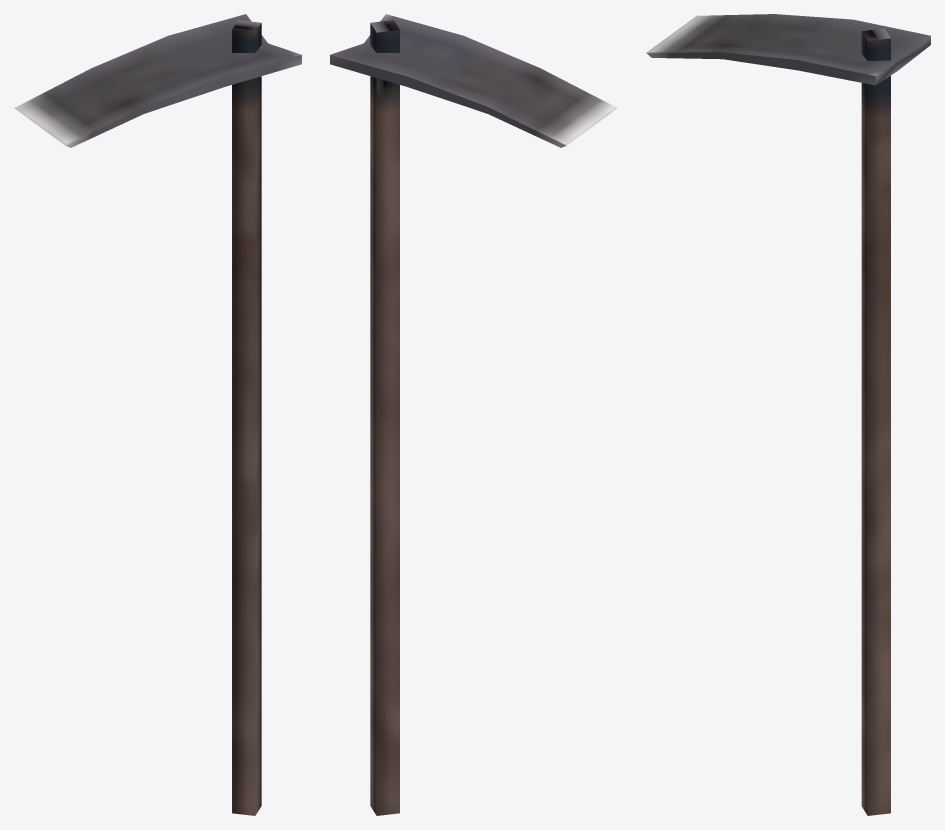
File: objects_un_t03farmtools01.gltf
3 views of the same model, side by side, from view 1: azimuth 30°, elevation 25°; view 2: azimuth 150°, elevation 25°; view 3: azimuth 330°, elevation 25° (orthographic).
Visible parts, largest first — view 1: objects_un_t03farmtools01_mesh_shape:objects_un_t03farmtools; view 2: objects_un_t03farmtools01_mesh_shape:objects_un_t03farmtools; view 3: objects_un_t03farmtools01_mesh_shape:objects_un_t03farmtools.
Part boxes in pixels (left/top/right/bottom): objects_un_t03farmtools01_mesh_shape:objects_un_t03farmtools: left=14, top=14, right=301, bottom=815; objects_un_t03farmtools01_mesh_shape:objects_un_t03farmtools: left=330, top=14, right=617, bottom=815; objects_un_t03farmtools01_mesh_shape:objects_un_t03farmtools: left=646, top=14, right=930, bottom=815.
Size of what is drawn, in the model's own units: 0.4729 by 1.51 by 0.1952.
Materials: 1 (1 with a texture image).
